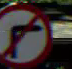Don't turn right: (1, 3, 56, 64)
